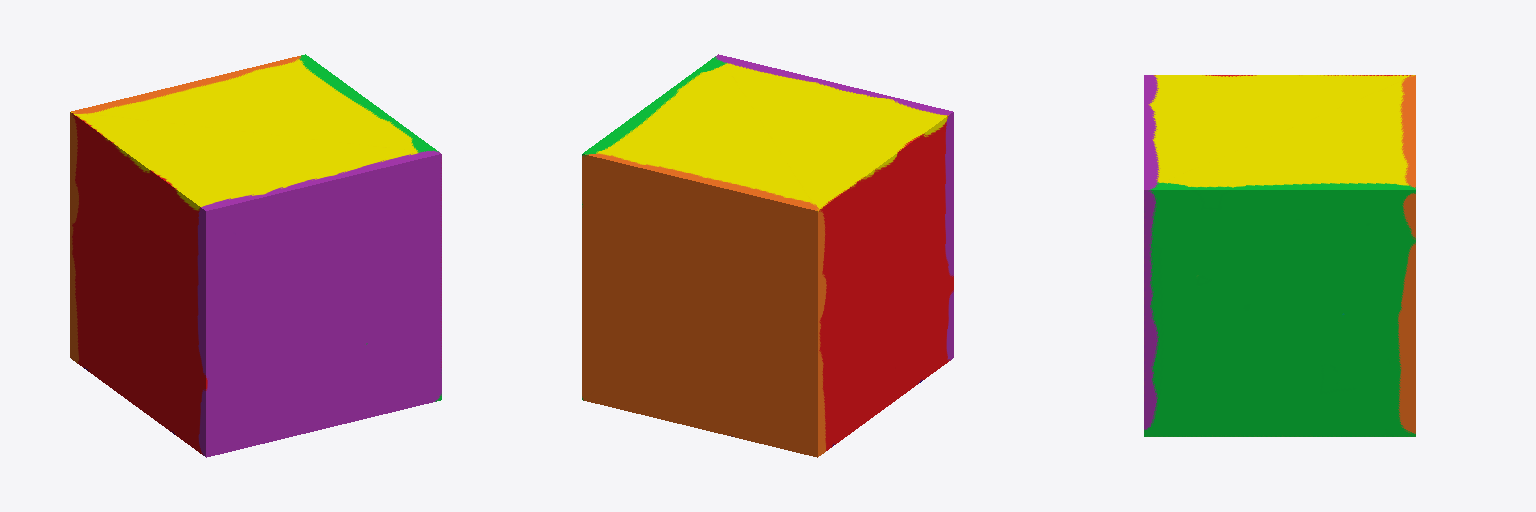
3 renders of one model, left to right at view 1: azimuth 30°, elevation 25°; view 2: azimuth 150°, elevation 25°; view 3: azimuth 270°, elevation 25°, orthographic.
Parts seen in each view (by area): view 1: Object.1; view 2: Object.1; view 3: Object.1.
Boxes of the visible parts, box(x1,y1,x2,y2) form: Object.1: box(70, 54, 441, 457); Object.1: box(582, 54, 953, 457); Object.1: box(1144, 75, 1415, 436).
Bounding box in the file's own units: 1 × 1 × 1.
Materials: 1 (1 with a texture image).